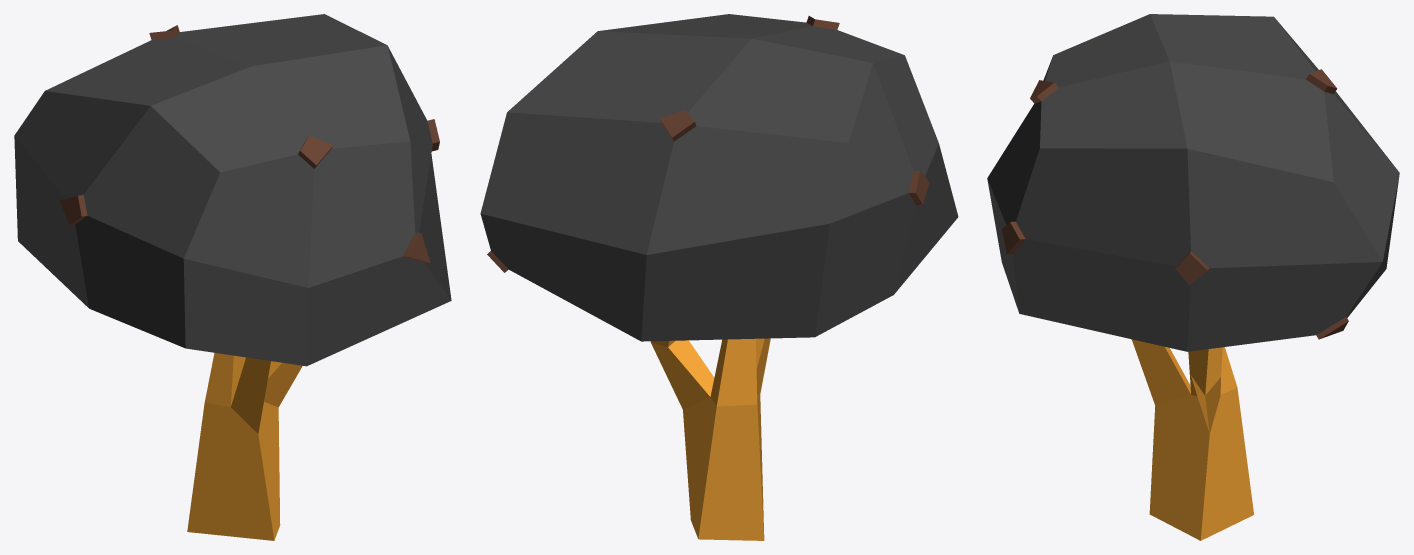
Rendered from bush_4.obj.
The picture shows the model from 3 angles, left to right: view 1: azimuth 30°, elevation 25°; view 2: azimuth 150°, elevation 25°; view 3: azimuth 270°, elevation 25°; orthographic projection. The views are drawn at different scales.
Parts seen in each view (by area): view 1: bush_4; view 2: bush_4; view 3: bush_4.
Boxes of the visible parts, x1=… form: bush_4: x1=14, y1=14, x2=451, y2=540; bush_4: x1=480, y1=14, x2=958, y2=540; bush_4: x1=987, y1=14, x2=1399, y2=540.
Bounding box in the file's own units: 4.58 × 5.61 × 4.57.
